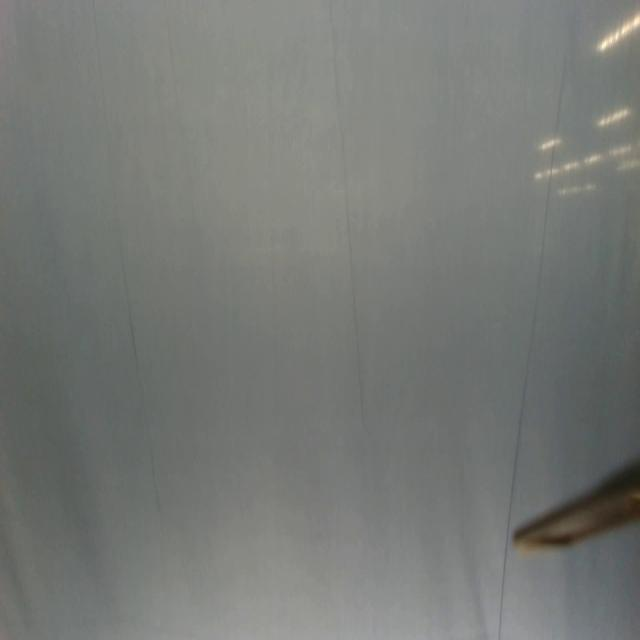crease: (88, 0, 163, 519), (508, 11, 578, 492), (326, 0, 371, 428), (497, 493, 514, 640), (162, 9, 178, 80)
